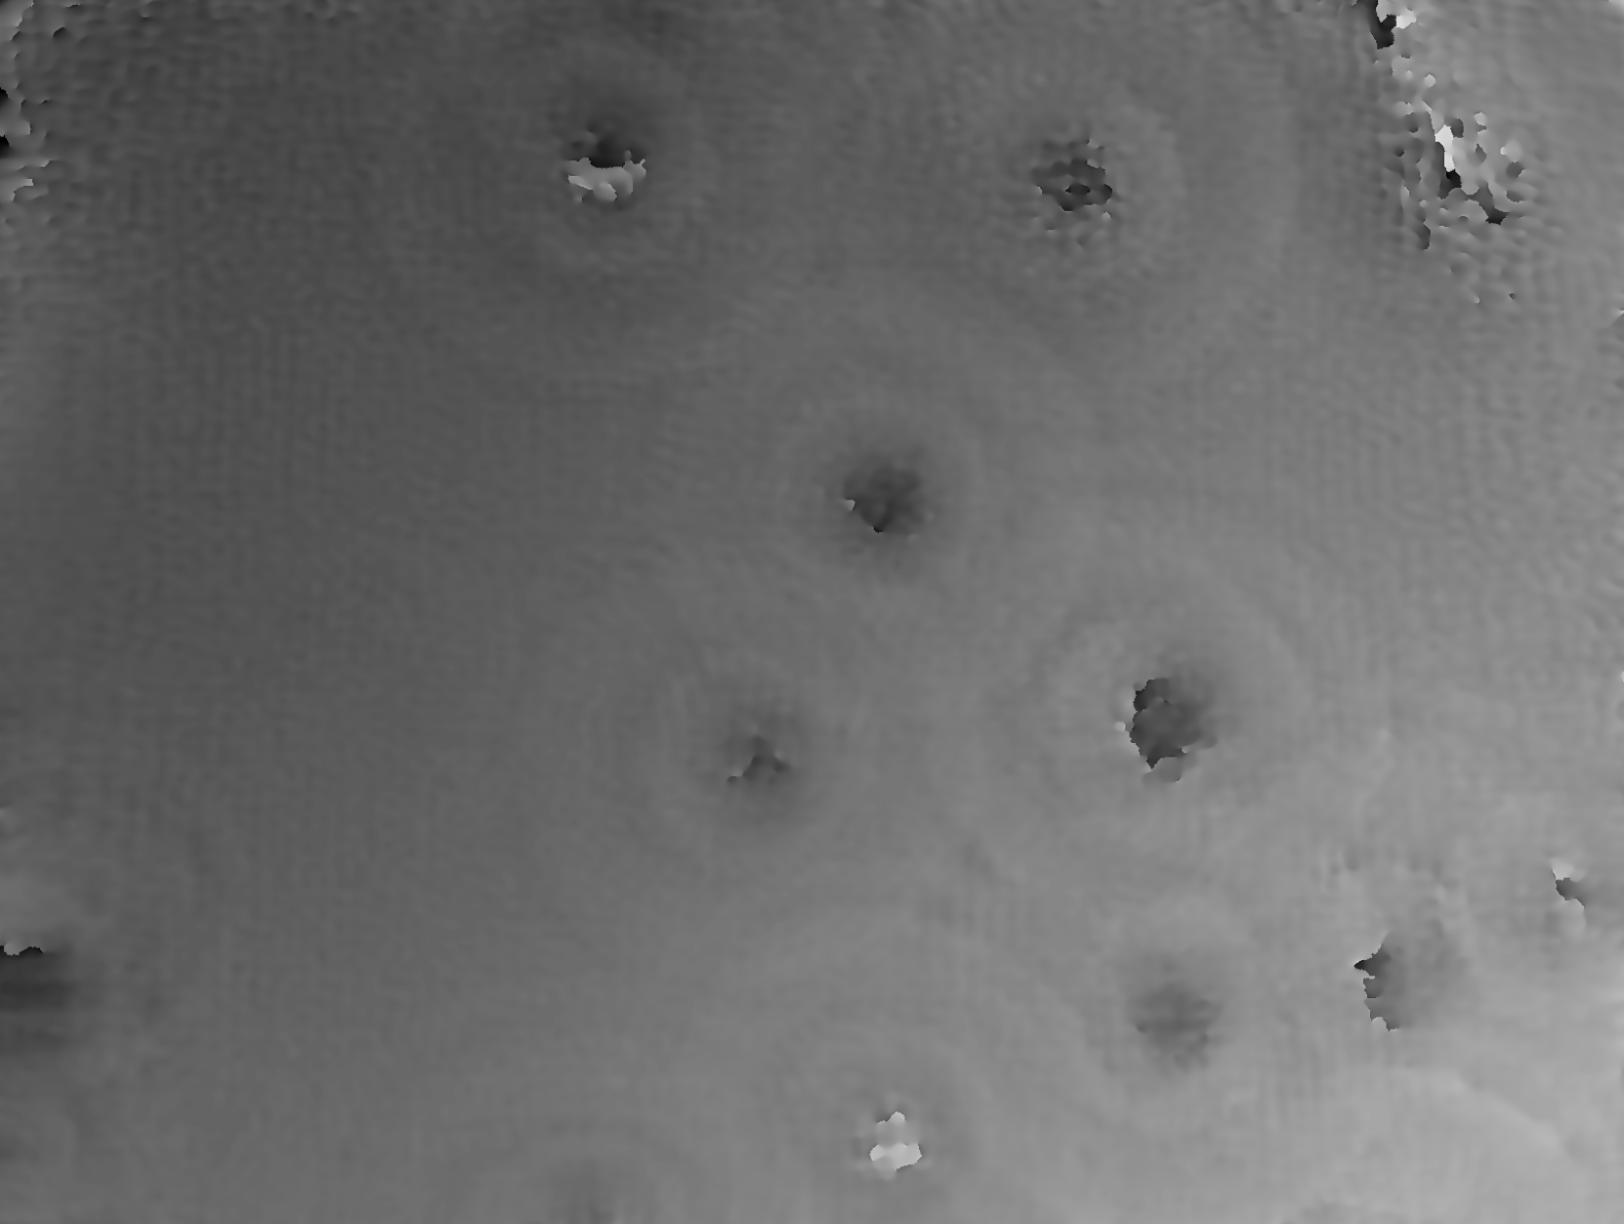cell: (482, 39, 729, 294), (1057, 602, 1286, 852), (766, 369, 999, 612), (642, 615, 867, 864), (962, 66, 1198, 302), (1060, 885, 1278, 1131), (774, 1011, 1018, 1224)
